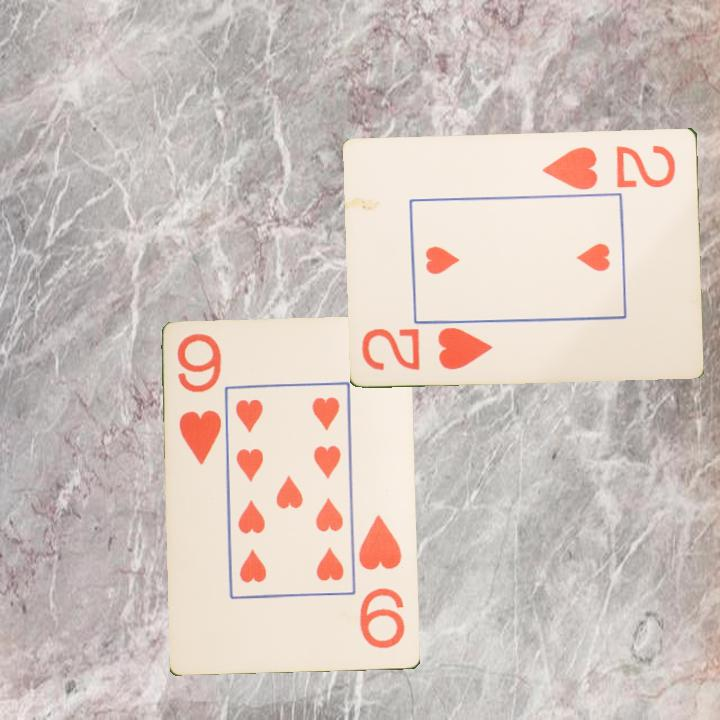2h: (539, 141, 678, 192), (358, 323, 496, 373)
9h: (356, 511, 408, 652), (173, 330, 225, 468)
